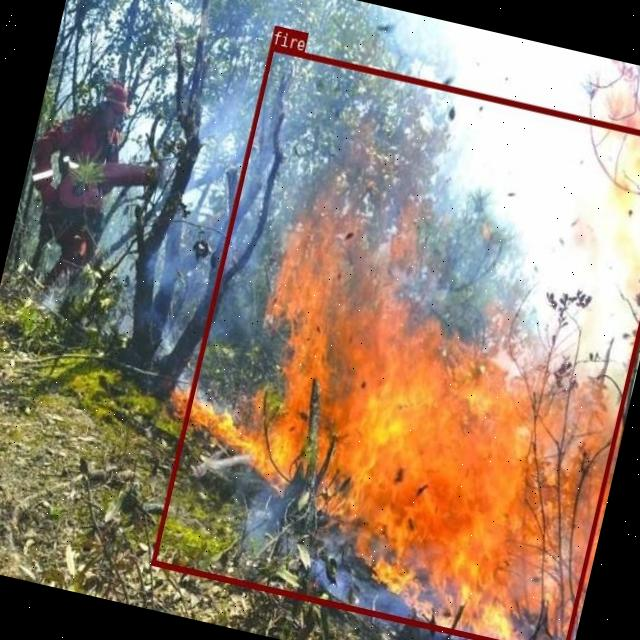fire: (150, 43, 640, 640)
